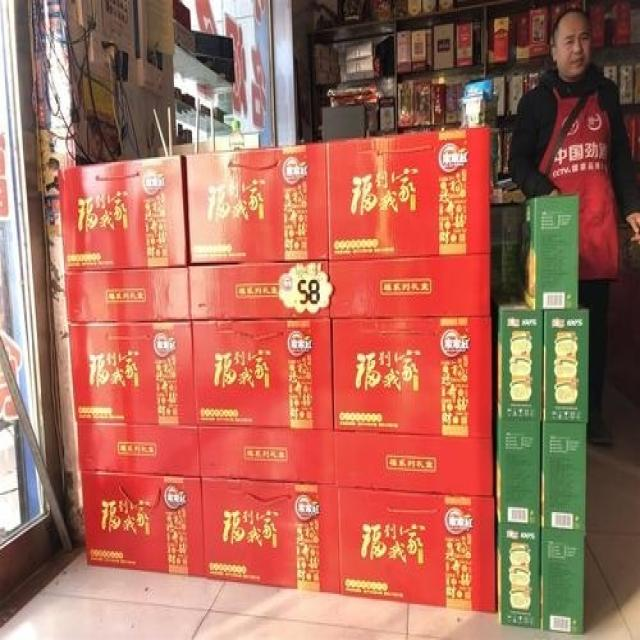box: (327, 127, 489, 257), (339, 484, 496, 612), (332, 315, 491, 436), (187, 143, 329, 265), (202, 478, 340, 594), (193, 318, 333, 429), (56, 156, 189, 271), (69, 322, 196, 426), (81, 473, 205, 578), (330, 253, 490, 317), (336, 431, 493, 495), (188, 261, 331, 319), (198, 428, 334, 484), (65, 265, 191, 323), (520, 197, 577, 313), (77, 423, 201, 476), (494, 289, 542, 420), (495, 417, 542, 528), (542, 419, 586, 534), (543, 310, 588, 420), (498, 525, 541, 629), (539, 530, 583, 631)
